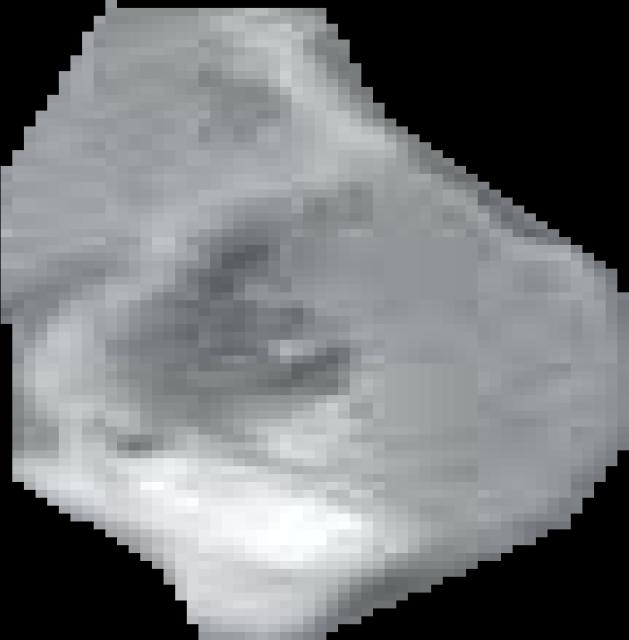tumor_moderate_chance: (1, 0, 629, 640)
